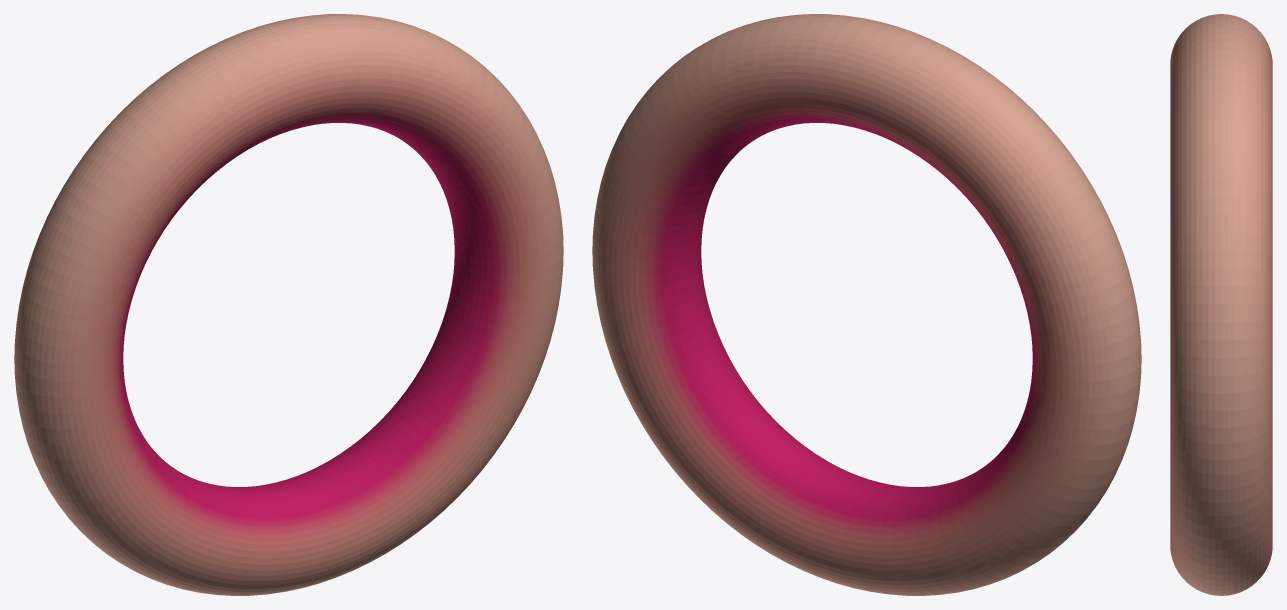
3 renders of one model, left to right at view 1: azimuth 30°, elevation 25°; view 2: azimuth 150°, elevation 25°; view 3: azimuth 270°, elevation 25°, orthographic. The views are drawn at different scales.
Visible parts, largest first — view 1: world; view 2: world; view 3: world.
Part boxes in pixels (x1,y1,x2,y2): world: (14,14,563,595); world: (592,14,1141,595); world: (1170,14,1272,595).
Bounding box in the file's own units: 34 × 34 × 5.99.
